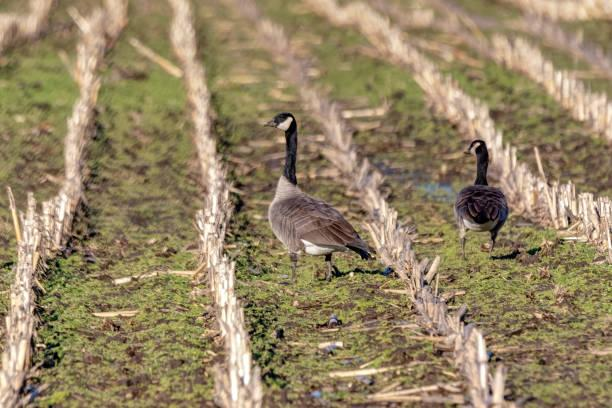Canadian-Goose: (262, 111, 372, 283), (454, 140, 511, 258)
